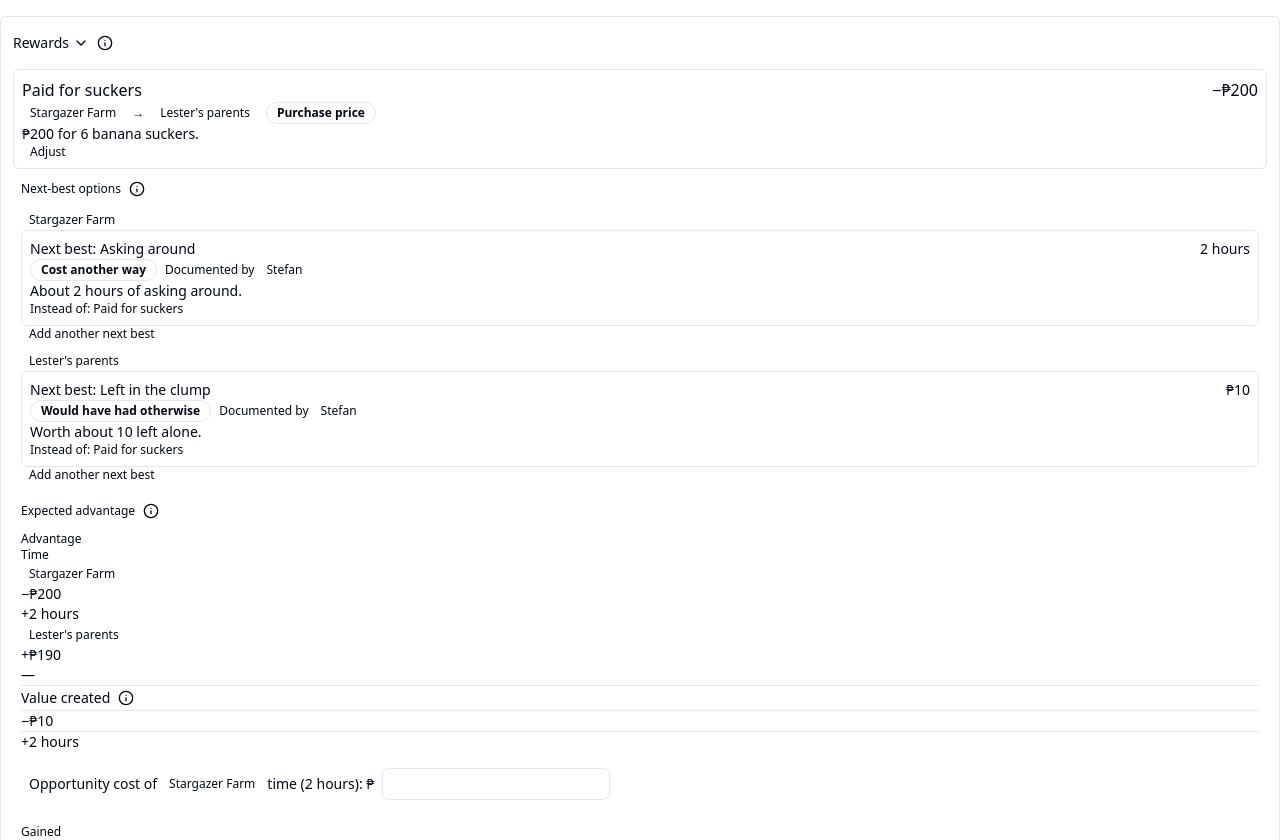
Test: RewardsSection › saves a documented next best as the person's observation, then rebuilds
The image size is (1280, 840).
Click the button "Add another next best" below "Worth about 10 left alone.". click: point(92, 475)
box: x1=21 y1=467 x2=162 y2=483
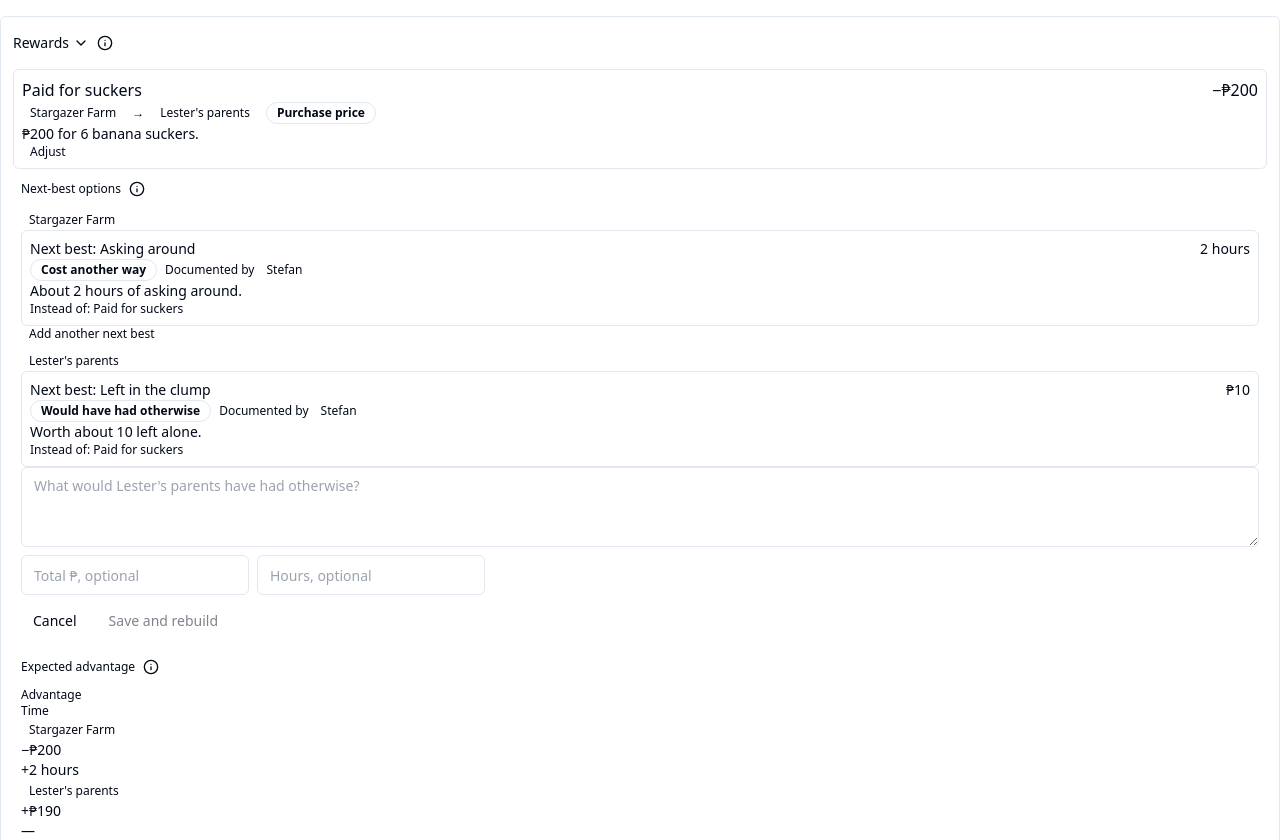
Type "Fed to the chickens" into the text box with placeholder "What would Lester's parents have had otherwise?". click: point(640, 507)
box: x1=21 y1=467 x2=1259 y2=547
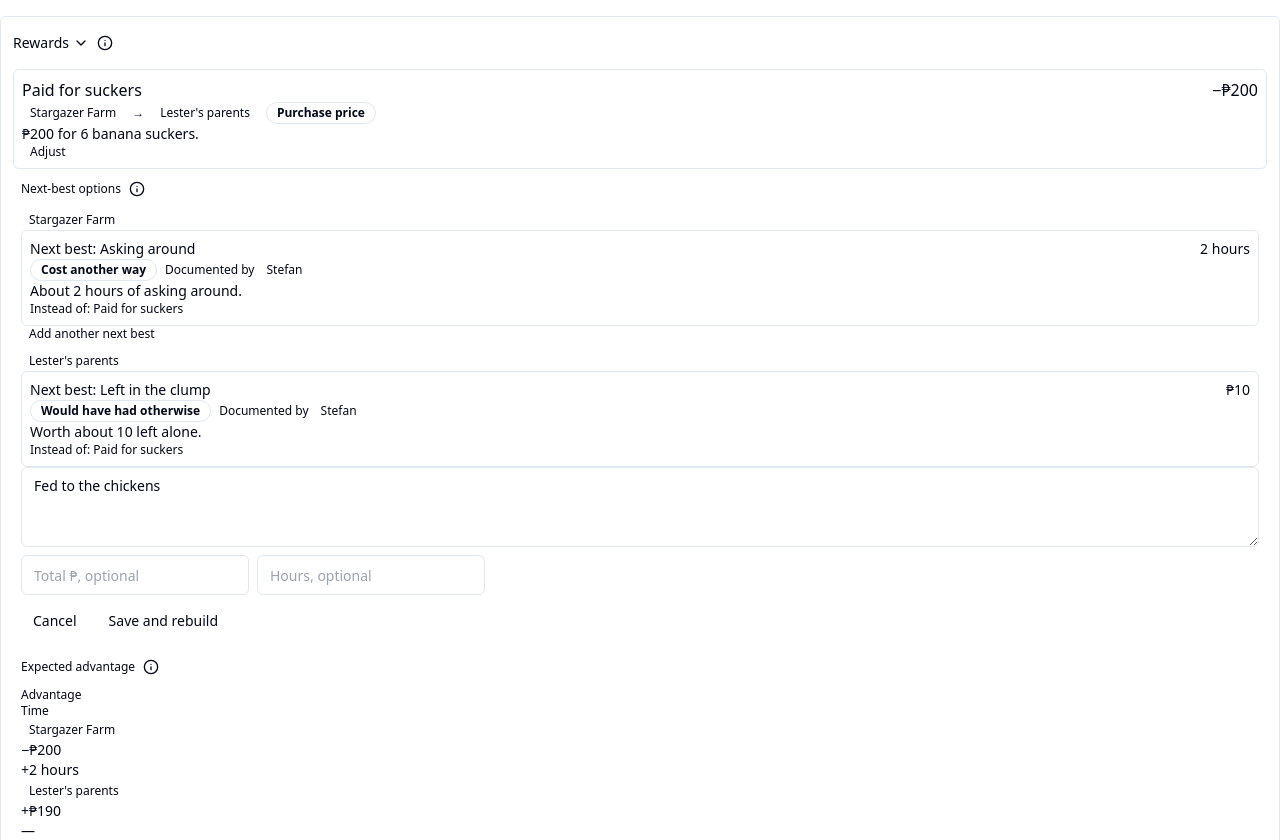
Type "15" into the number field with placeholder "Total ₱, optional". click: point(135, 575)
box: x1=21 y1=555 x2=249 y2=595
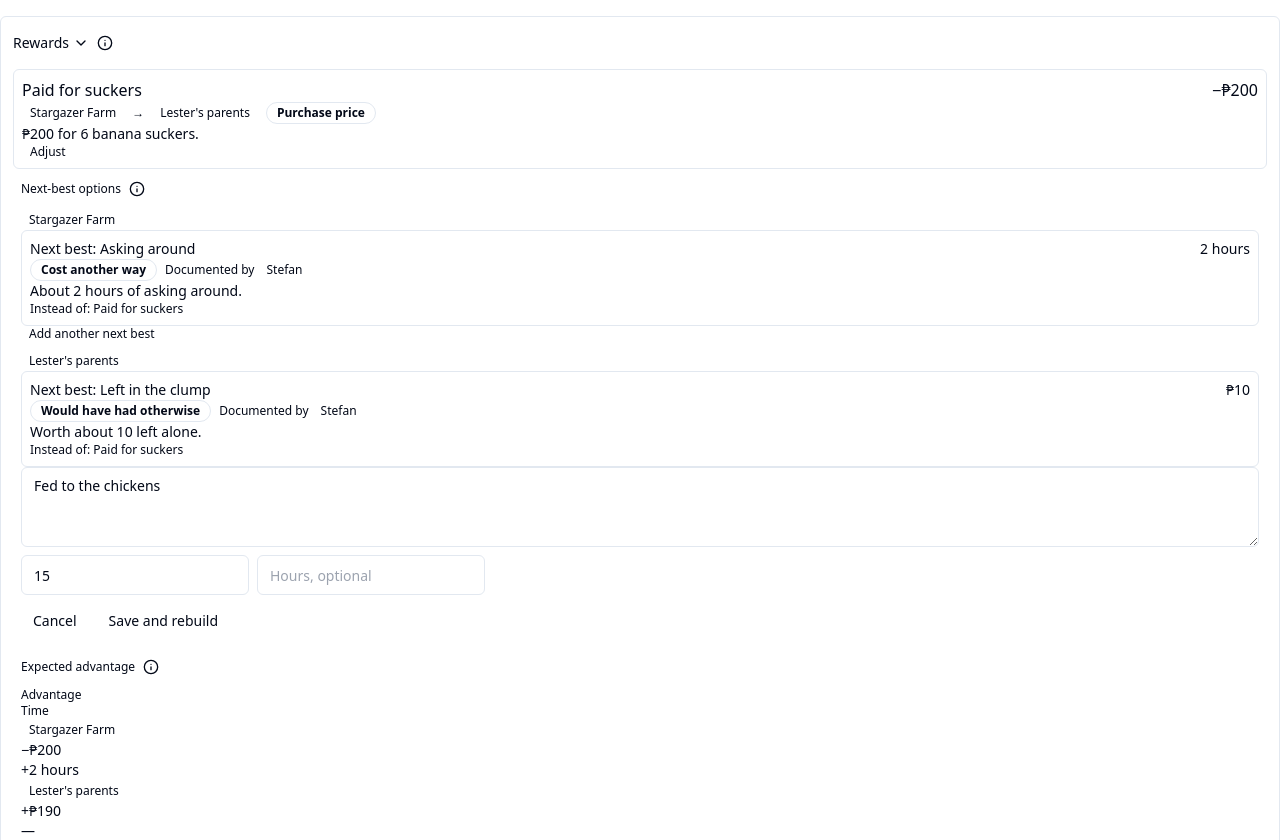
Click the button "Save and rebuild". click: point(163, 621)
box: x1=97 y1=603 x2=230 y2=639
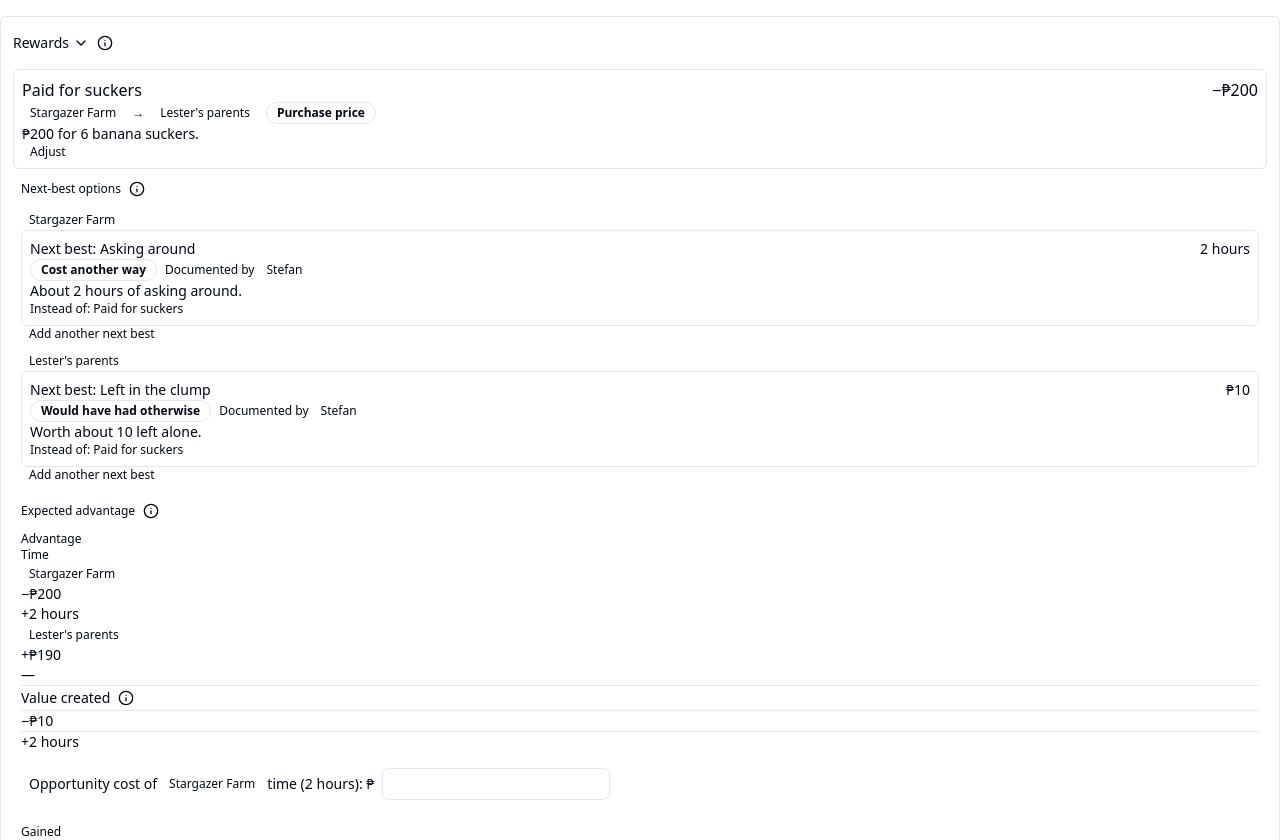
Check: the button "Save and rebuild" is gone
